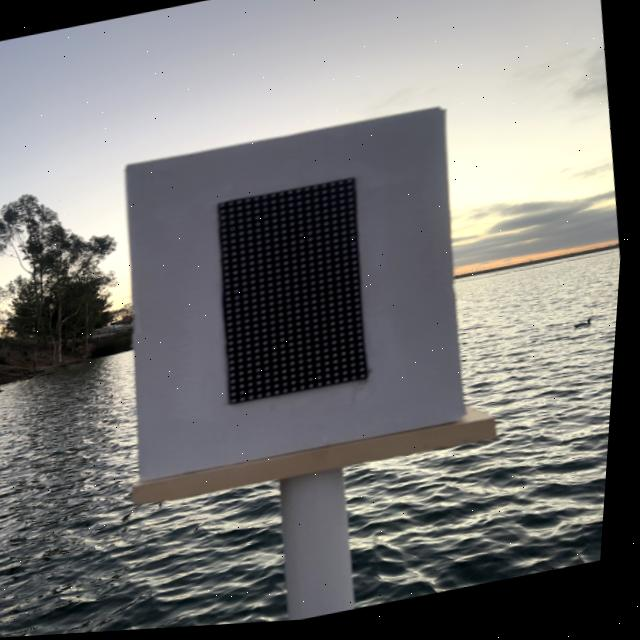led: (176, 155, 425, 438)
